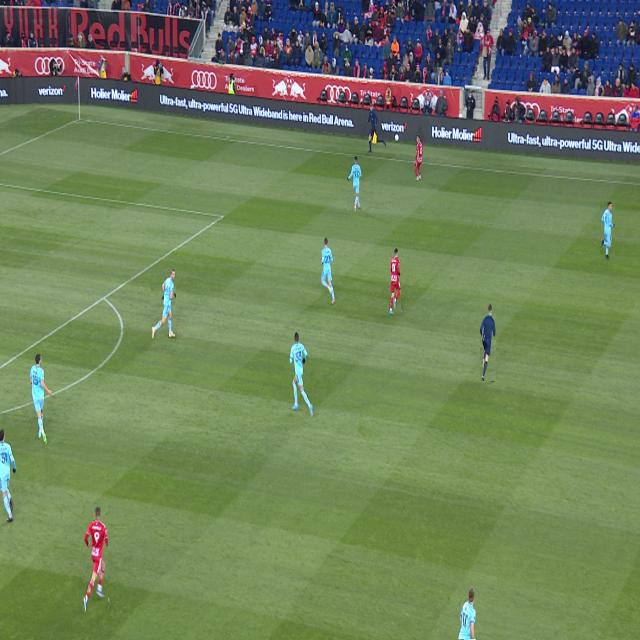football: (394, 134, 399, 142)
player: (84, 506, 108, 613), (289, 332, 313, 417), (30, 354, 52, 446), (152, 269, 176, 339), (0, 429, 16, 521), (320, 238, 336, 304), (458, 589, 476, 640), (600, 202, 615, 259), (347, 156, 362, 212), (390, 249, 401, 315), (414, 134, 423, 181)
referee: (480, 304, 496, 381)
